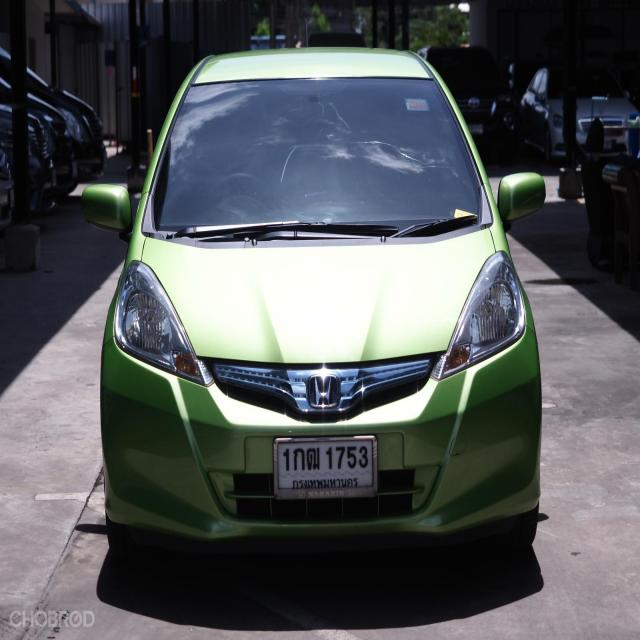license_plate: (271, 430, 383, 505)
